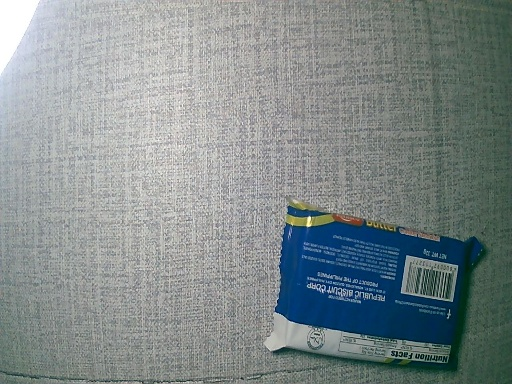plastic: (267, 194, 484, 370)
